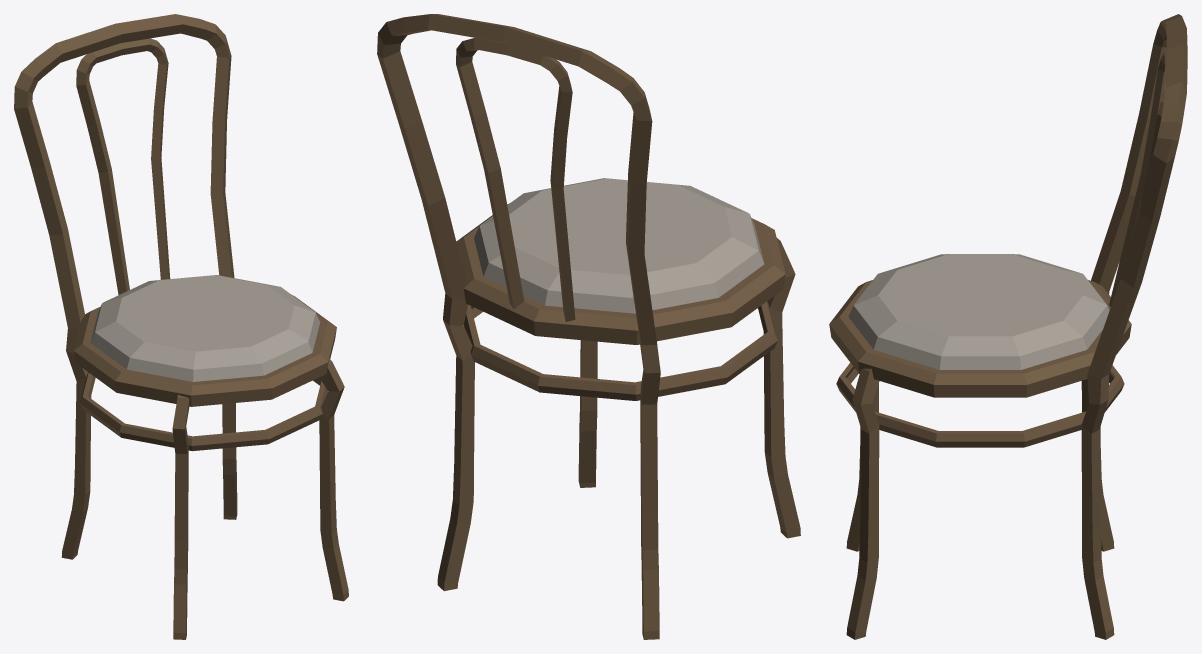
File: Chair.glb
3 views of the same model, side by side, from view 1: azimuth 30°, elevation 25°; view 2: azimuth 150°, elevation 25°; view 3: azimuth 270°, elevation 25° (orthographic). The views are drawn at different scales.
Visible parts, largest first — view 1: Chair; view 2: Chair; view 3: Chair.
Part boxes in pixels (x1,y1,x2,y2): Chair: [14, 14, 348, 639]; Chair: [377, 14, 800, 639]; Chair: [829, 14, 1187, 639].
Bounding box in the file's own units: 0.3373 × 0.7091 × 0.4204.
Materials: 2 (2 with a texture image).
